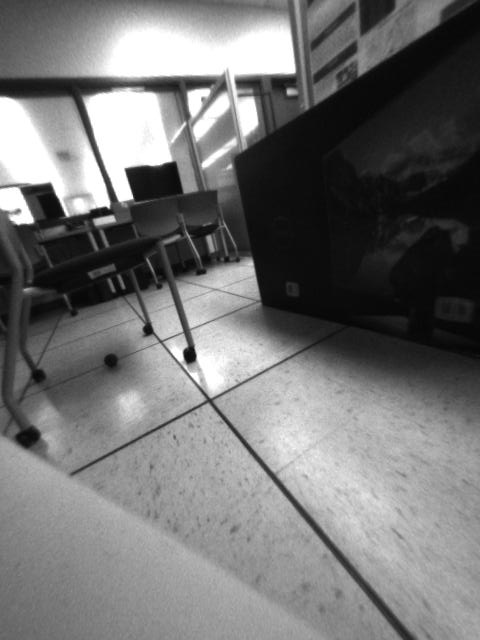dogtoy: (95, 346, 125, 372)
